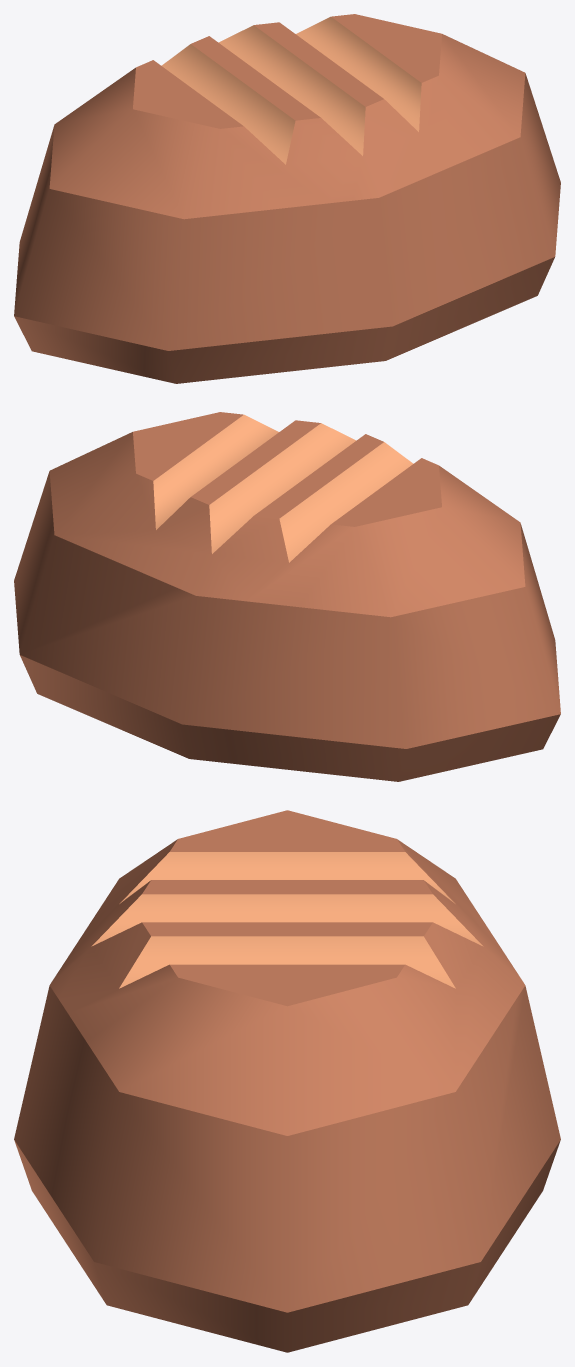
The model's file is loafRound.obj.
The picture shows the model from 3 angles, top to bottom: view 1: azimuth 30°, elevation 25°; view 2: azimuth 150°, elevation 25°; view 3: azimuth 270°, elevation 25°; orthographic projection. The views are drawn at different scales.
Parts seen in each view (by area): view 1: loafRound; view 2: loafRound; view 3: loafRound.
Part boxes in pixels (bbox=[...]): loafRound: bbox=[14, 14, 560, 383]; loafRound: bbox=[14, 412, 560, 781]; loafRound: bbox=[14, 810, 560, 1352].
Size of the model in its own units: 0.7717 by 0.2932 by 0.5145.
